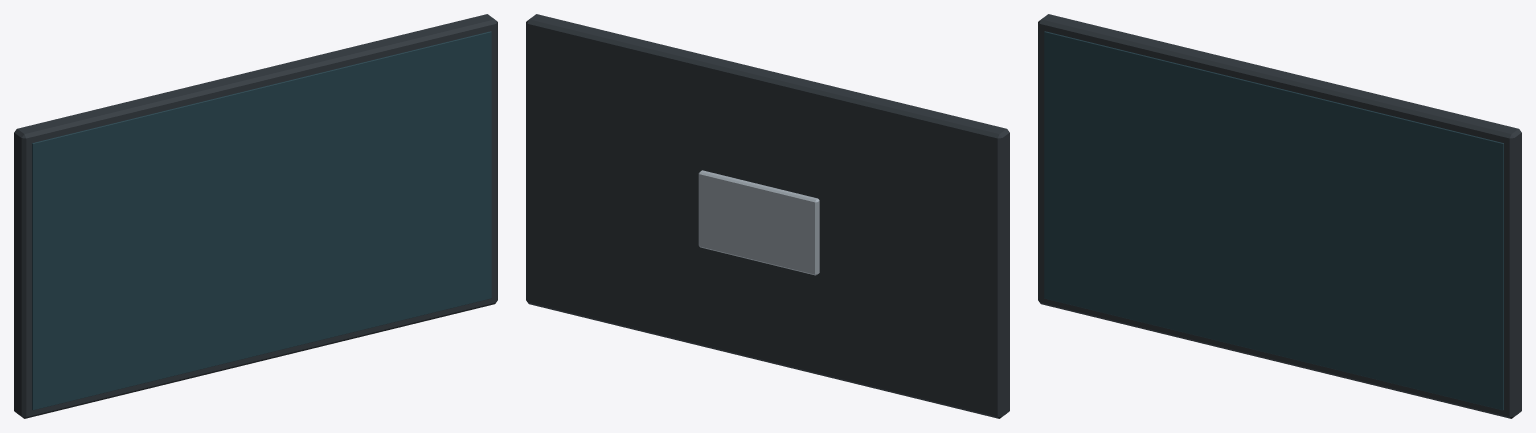
File: TV_Modern_Wall_Large.fbx
The picture shows the model from 3 angles, left to right: view 1: azimuth 30°, elevation 25°; view 2: azimuth 150°, elevation 25°; view 3: azimuth 330°, elevation 25°; orthographic projection.
Visible parts, largest first — view 1: TV_Modern_Wall_Large; view 2: TV_Modern_Wall_Large; view 3: TV_Modern_Wall_Large.
Part boxes in pixels (x1,y1,x2,y2): TV_Modern_Wall_Large: [14, 14, 497, 418]; TV_Modern_Wall_Large: [526, 14, 1009, 418]; TV_Modern_Wall_Large: [1038, 14, 1521, 418].
Size of the model in its own units: 560 by 320 by 35.
